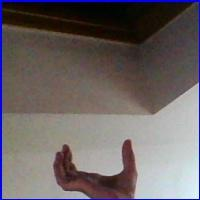space: (44, 138, 151, 198)
